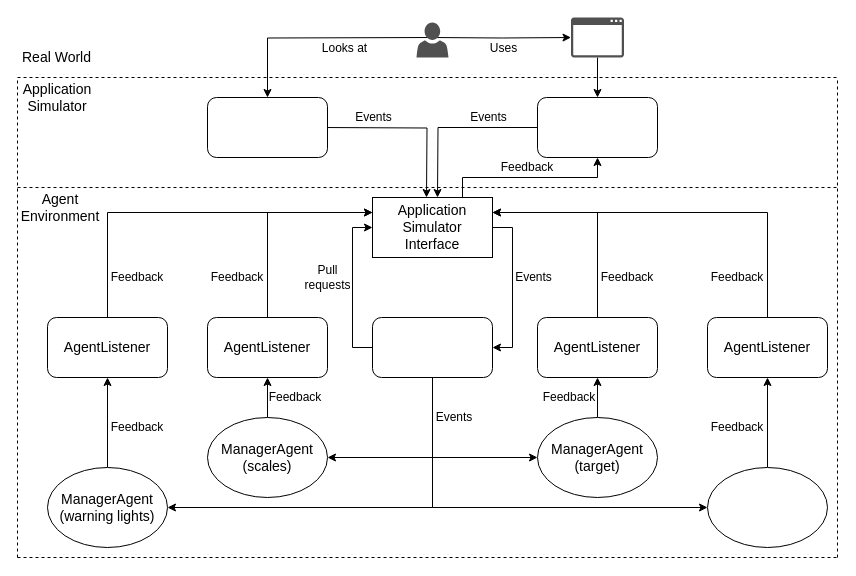
The diagram is 856 pixels wide and 576 high, and some of its shapes have lost their labels. The centre of each missing label's shape, as x and y in pixels:
"Dispatcher" goes at [432,347].
"Eye Tracker" goes at [267,127].
"GUI" goes at [597,127].
"ManagerAgent (pumps & tanks)" goes at [767,507].
